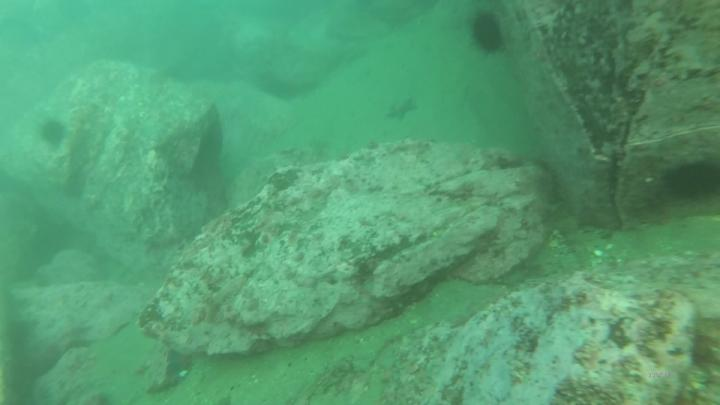echinus: (470, 11, 508, 54), (38, 116, 67, 148)
starfish: (387, 97, 421, 124)
